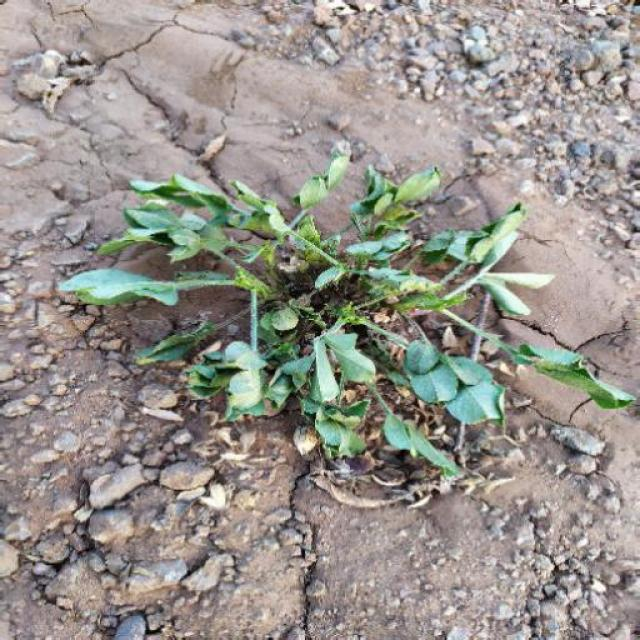weed: (79, 172, 590, 490)
